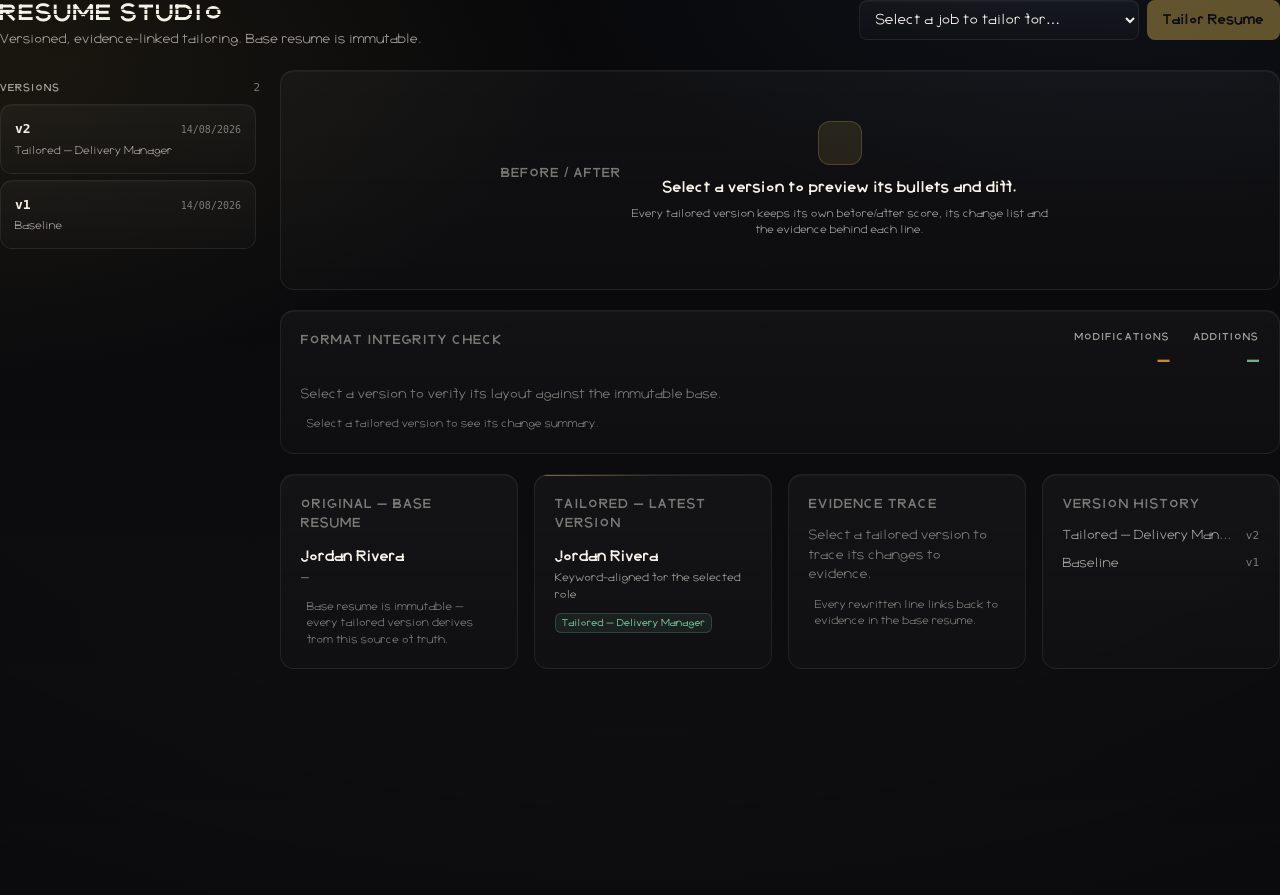
Test: RFMT-2 — Studio download vs preview › no copy on the screen claims the downloaded file is washed in coral
This screenshot has width=1280, height=895.
Click the button with test id "resume-version-card": (128, 139) [0, 104, 256, 174]
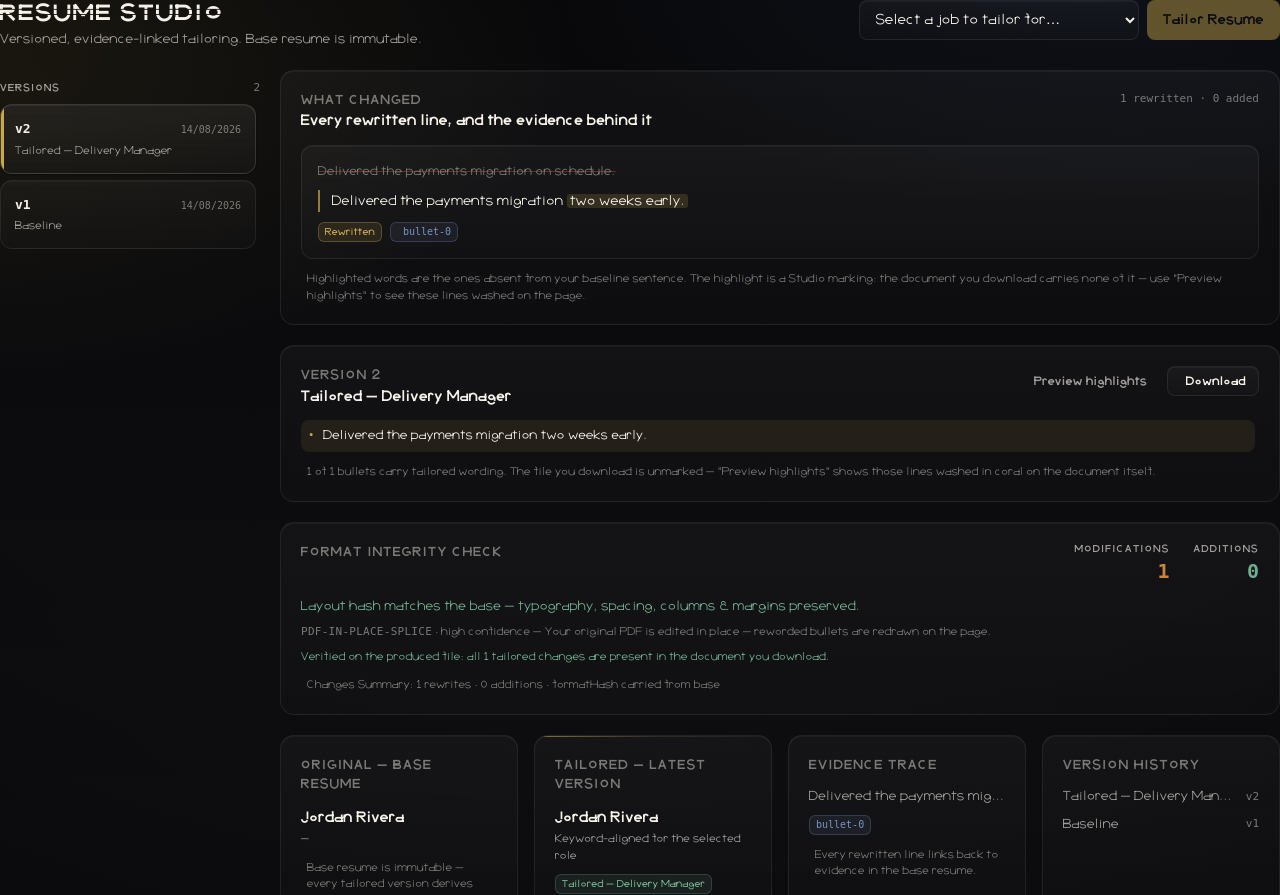
expect the button with test id "download-resume-btn" is shown: met, box [1167, 366, 1259, 396]
